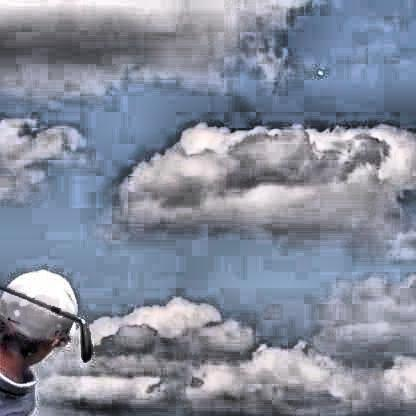golfball: (314, 68, 321, 75)
